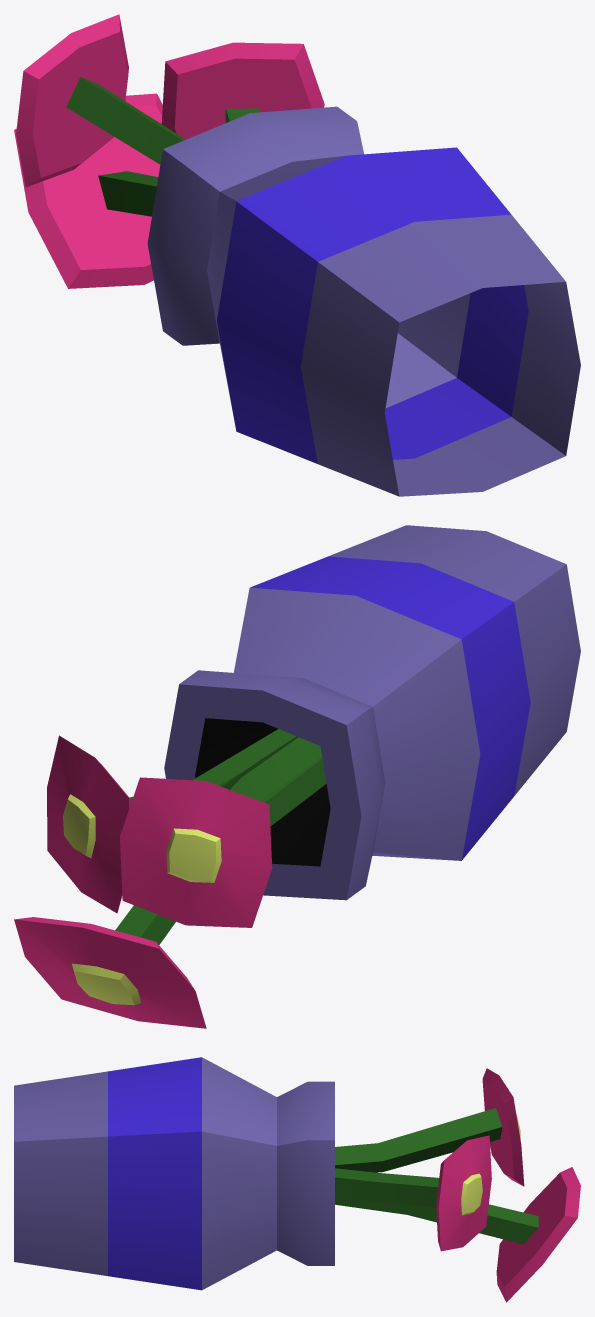
Rendered from Vase 01.FBX.
3 renders of one model, top to bottom at view 1: azimuth 30°, elevation 25°; view 2: azimuth 150°, elevation 25°; view 3: azimuth 270°, elevation 25°, orthographic. The views are drawn at different scales.
Visible parts, largest first — view 1: Vase 01; view 2: Vase 01; view 3: Vase 01.
Part boxes in pixels (x1,y1,x2,y2): Vase 01: [14, 14, 580, 496]; Vase 01: [14, 525, 580, 1028]; Vase 01: [14, 1057, 580, 1302].
Bounding box in the file's own units: 42.61 × 42.13 × 109.
